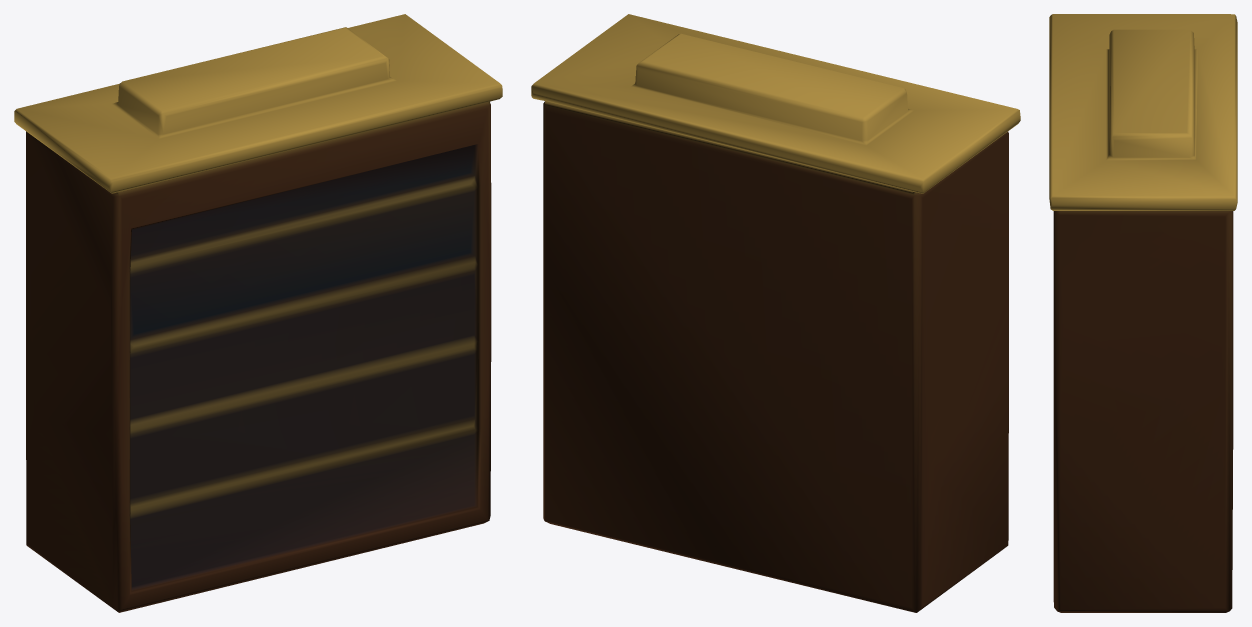
Rendered from lumiere-candy-cabinet.glb.
3 views of the same model, side by side, from view 1: azimuth 30°, elevation 25°; view 2: azimuth 150°, elevation 25°; view 3: azimuth 270°, elevation 25° (orthographic). The views are drawn at different scales.
Visible parts, largest first — view 1: lumiere-candy-cabinet_LOD0; view 2: lumiere-candy-cabinet_LOD0; view 3: lumiere-candy-cabinet_LOD0.
Boxes of the visible parts, bbox=[...] form: lumiere-candy-cabinet_LOD0: bbox=[14, 14, 502, 612]; lumiere-candy-cabinet_LOD0: bbox=[531, 14, 1020, 612]; lumiere-candy-cabinet_LOD0: bbox=[1049, 14, 1237, 612].
Size of what is drawn, in the model's own units: 2.04 by 2.3 by 0.8792.
